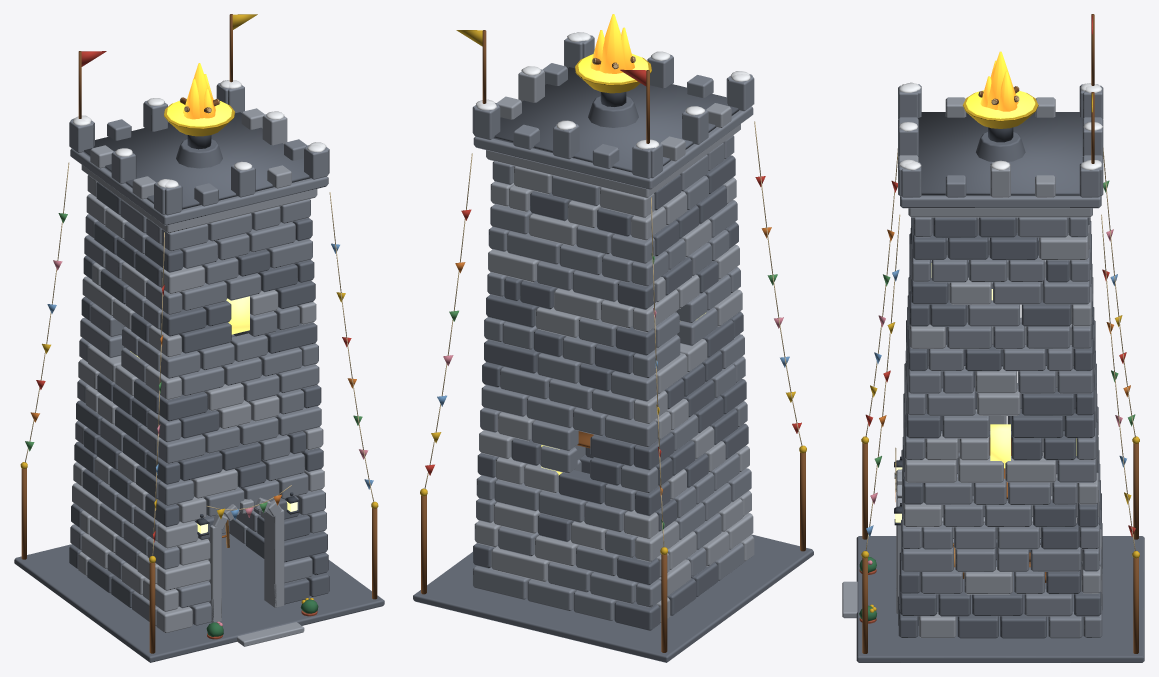
The model's file is beacon.glb.
The picture shows the model from 3 angles, left to right: view 1: azimuth 30°, elevation 25°; view 2: azimuth 150°, elevation 25°; view 3: azimuth 270°, elevation 25°; orthographic projection. The views are drawn at different scales.
Parts seen in each view (by area): view 1: walls, roof, floor, exterior, walls_low; view 2: walls, roof, floor, exterior; view 3: walls, roof, floor, exterior.
Part boxes in pixels (x1,y1,x2,y2): walls: [69, 175, 329, 632]; roof: [24, 14, 373, 555]; floor: [14, 533, 384, 662]; exterior: [20, 462, 378, 653]; walls_low: [72, 517, 321, 621]; walls: [472, 135, 754, 630]; roof: [424, 14, 802, 546]; floor: [413, 534, 813, 662]; exterior: [420, 445, 806, 652]; walls: [894, 217, 1102, 638]; roof: [865, 14, 1135, 551]; floor: [842, 536, 1144, 662]; exterior: [859, 436, 1139, 653].
Bounding box in the file's own units: 5 × 10.55 × 5.25.
